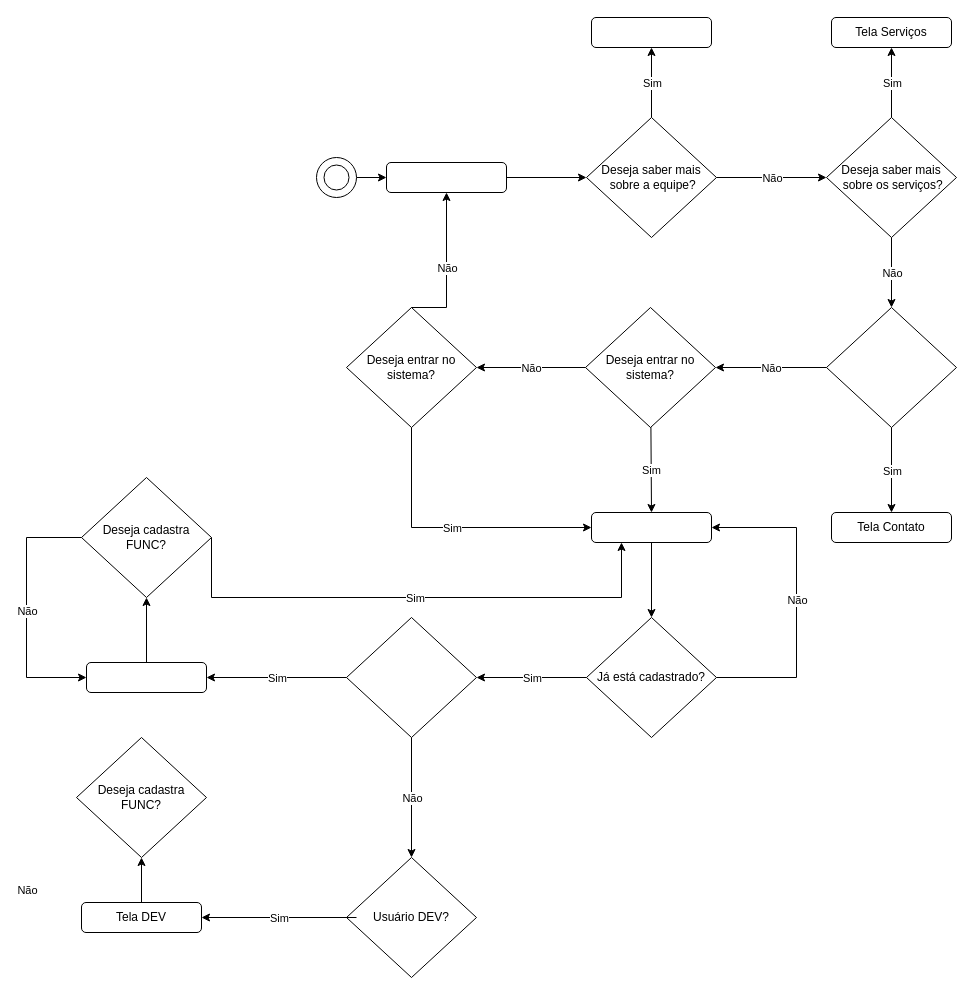
Image size: 974x995. Some labels were removed from this diagram. The box of each missing label's shape, as (x1, y1, x2, y2) in pixels:
Deseja saber o nosso contato?: (826, 306, 956, 428)
Tela Dashboard: (86, 662, 206, 692)
Tela Entrar/Cadastro: (590, 512, 712, 542)
Tela Inicial: (386, 162, 506, 192)
Tela Sobre Nós: (590, 16, 712, 48)
Usuário ADM?: (346, 616, 476, 738)
